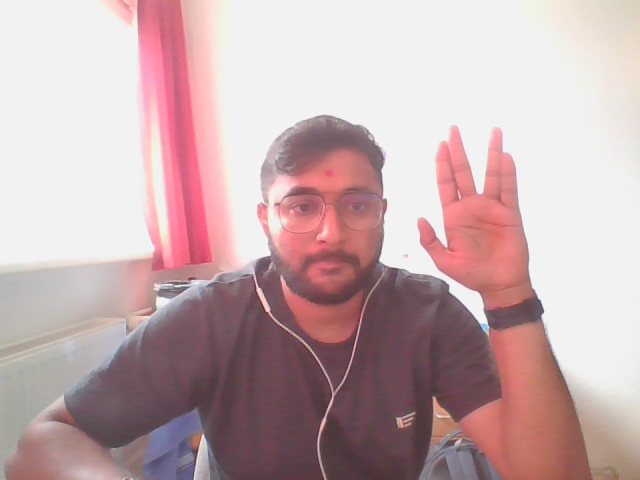LiveLong: (417, 124, 529, 287)
